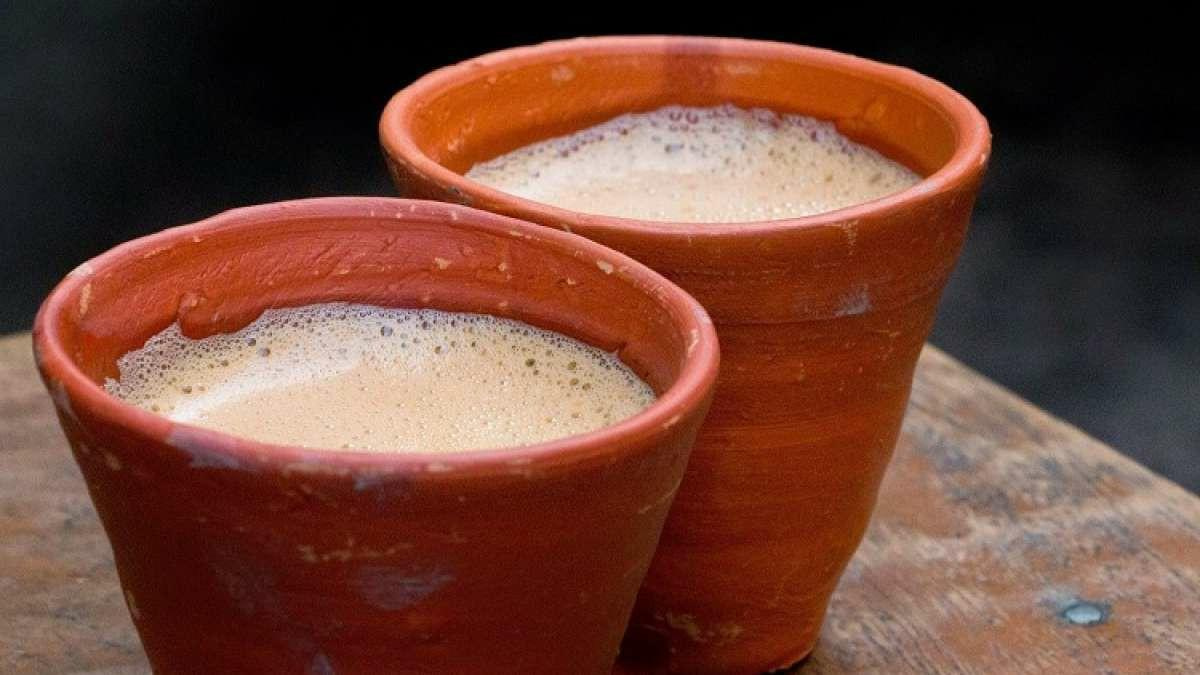Chai: (93, 303, 670, 452), (465, 107, 924, 234)
